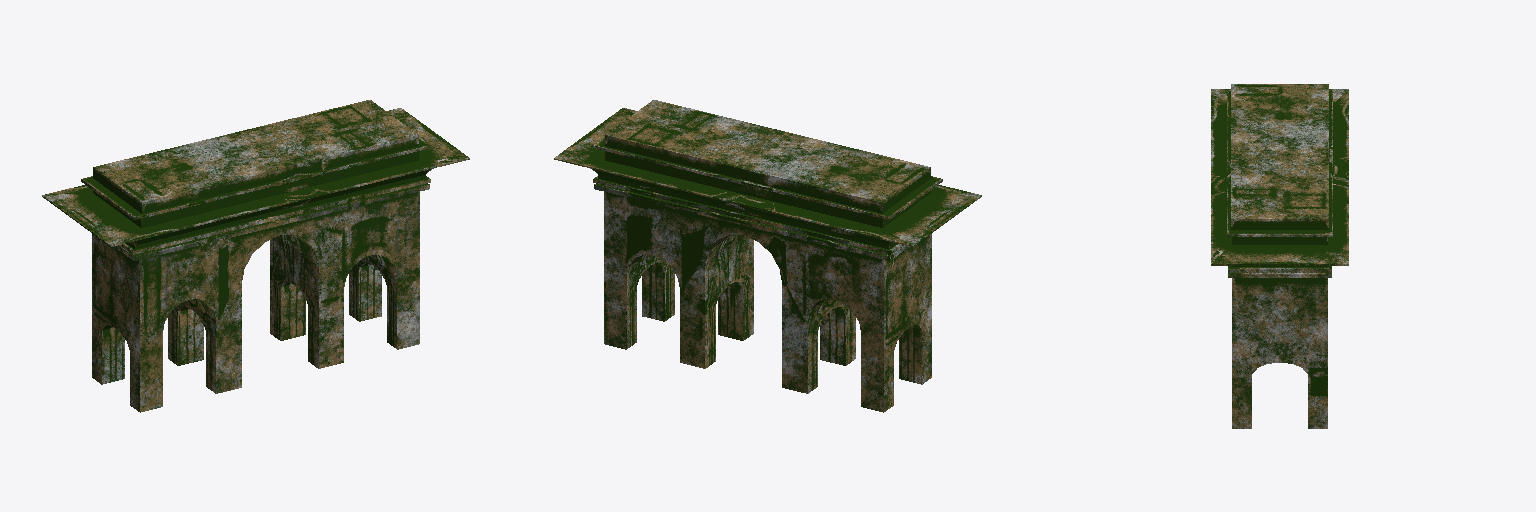
The picture shows the model from 3 angles: view 1: azimuth 30°, elevation 25°; view 2: azimuth 150°, elevation 25°; view 3: azimuth 270°, elevation 25°; orthographic projection.
Parts seen in each view (by area): view 1: object_0; view 2: object_0; view 3: object_0.
Boxes of the visible parts, box(x1,y1,x2,y2) form: object_0: box(42, 100, 469, 412); object_0: box(554, 100, 981, 412); object_0: box(1211, 84, 1348, 428).
Size of the model in its own units: 2575 by 1436 by 859.
Materials: 1 (1 with a texture image).